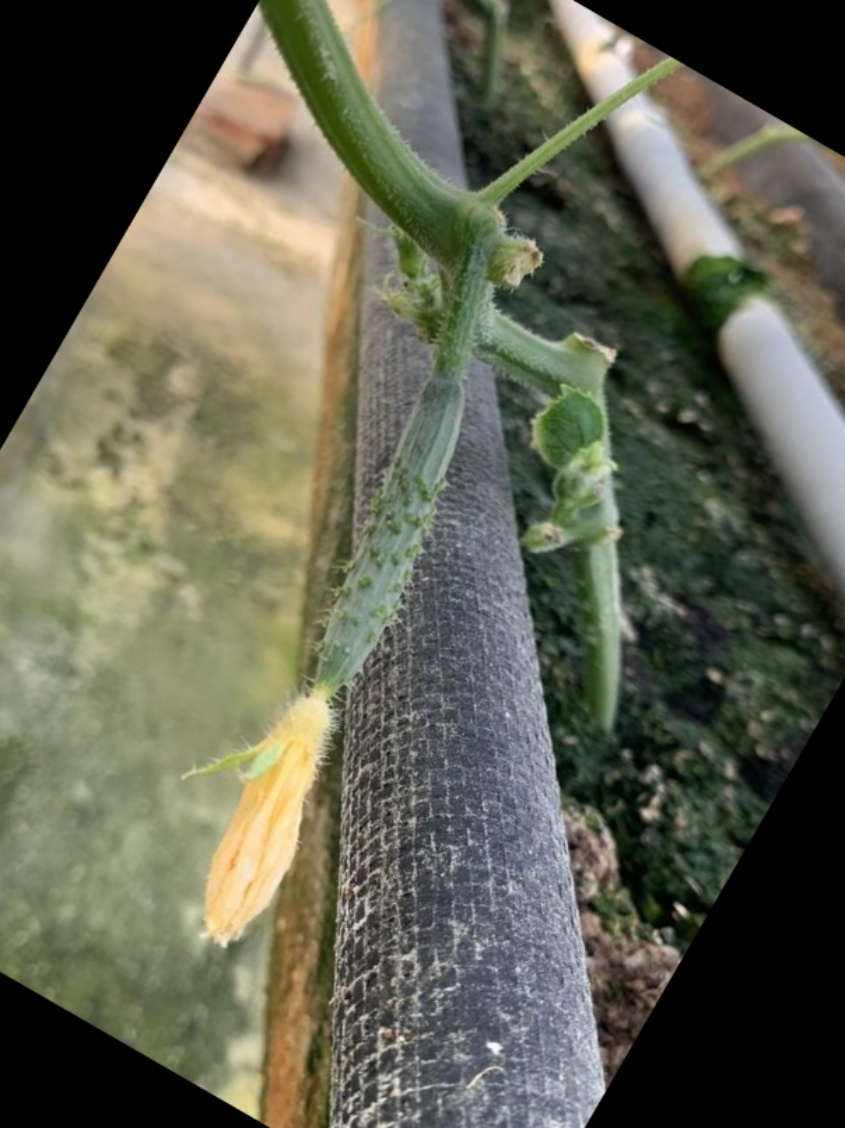bear: (167, 351, 491, 968)
